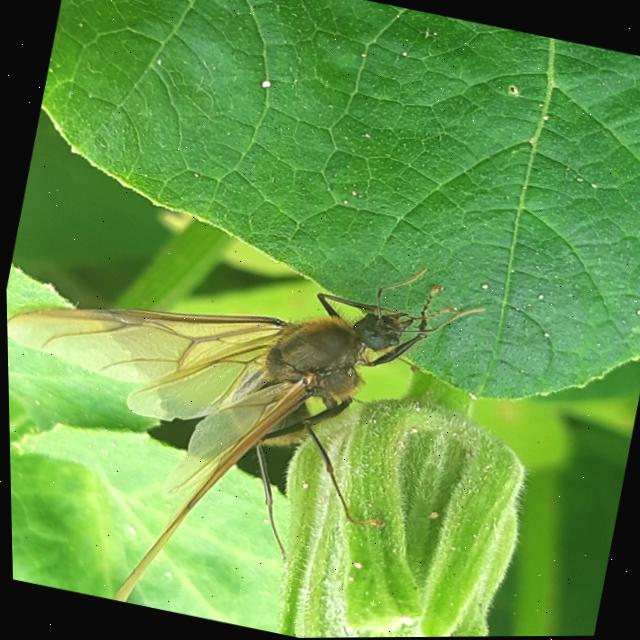Alive-Male-Alate: (3, 186, 495, 640)
